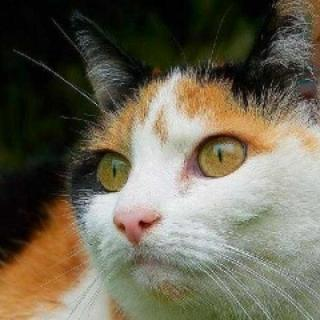cat: (54, 0, 320, 319)
nose: (105, 191, 168, 248)
